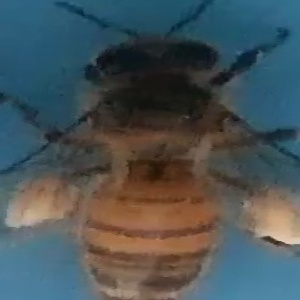bee: (3, 4, 300, 298)
